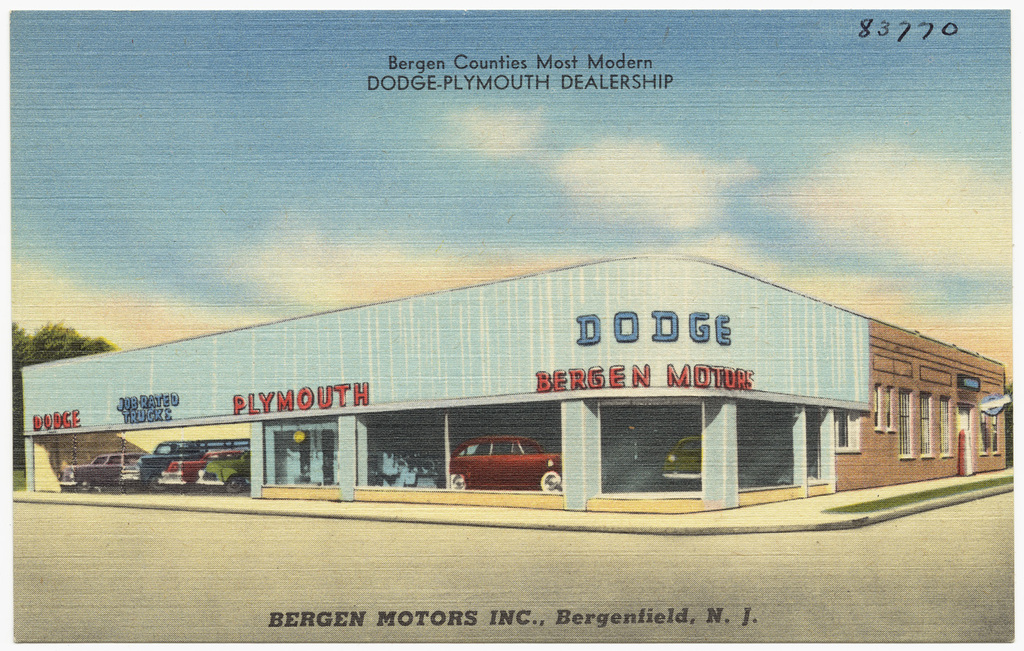Car: (449, 437, 556, 490), (161, 449, 248, 485), (73, 454, 140, 484)
